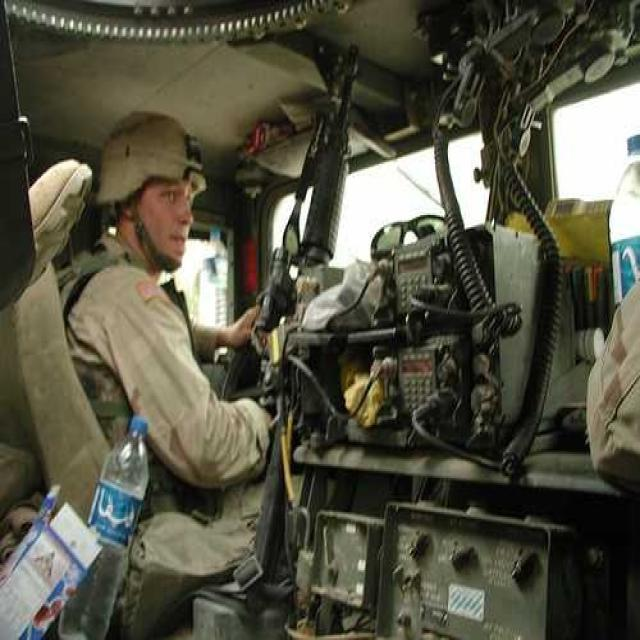Rifle: (246, 36, 371, 622)
